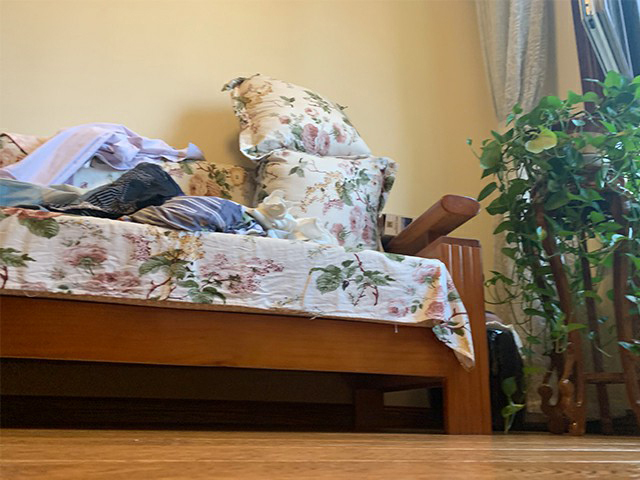curtain: (476, 1, 566, 427)
sofa: (1, 74, 493, 436)
